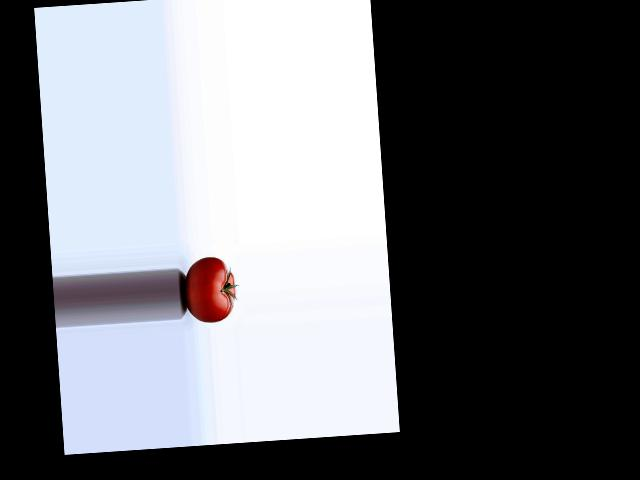tomato: (182, 255, 237, 324)
